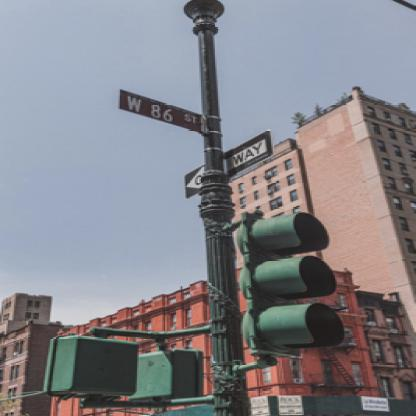trafficlight: (237, 209, 343, 360)
